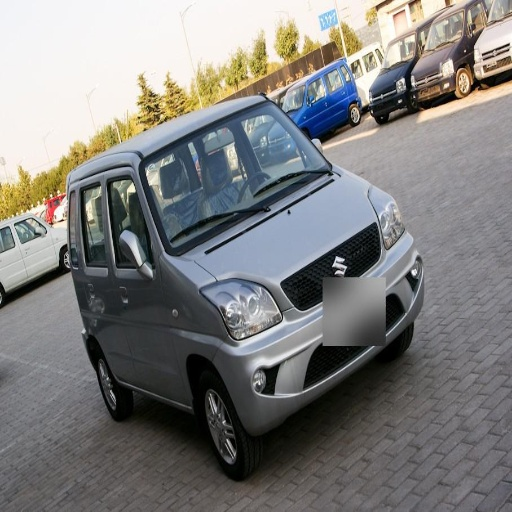front_bumper: (215, 239, 422, 430)
front_glass: (148, 138, 332, 250)
front_right_door: (108, 172, 167, 371)
front_right_light: (201, 279, 281, 340)
